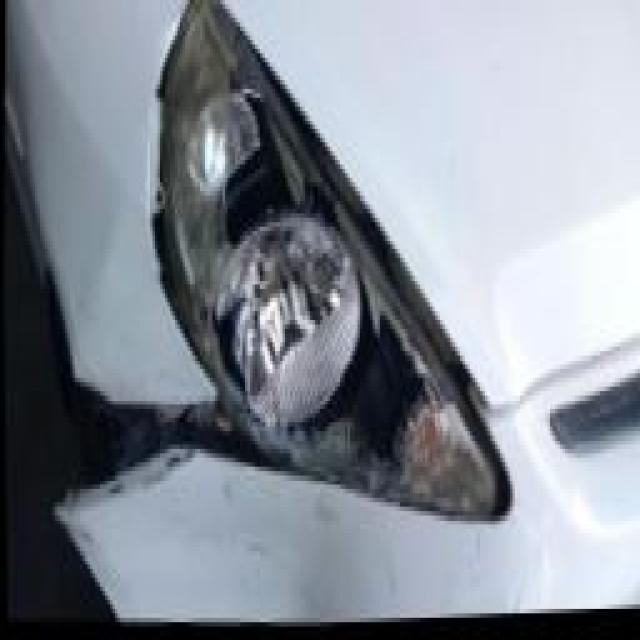Light: (146, 0, 503, 535)
